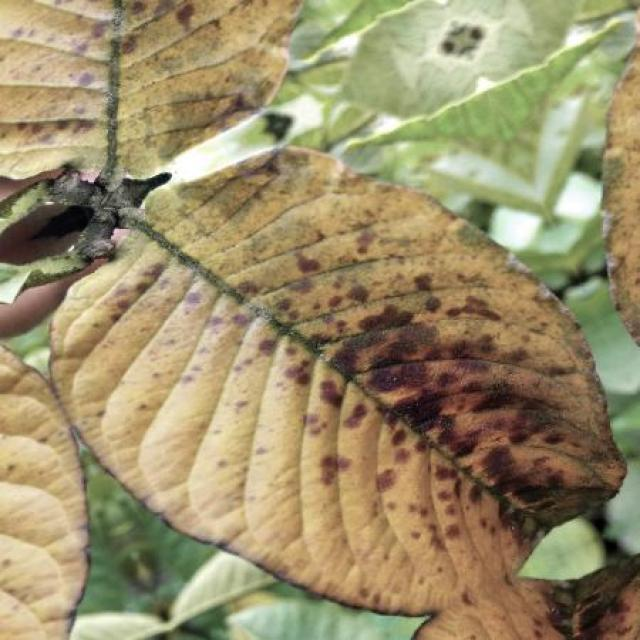Red Rust: (51, 149, 625, 640)
